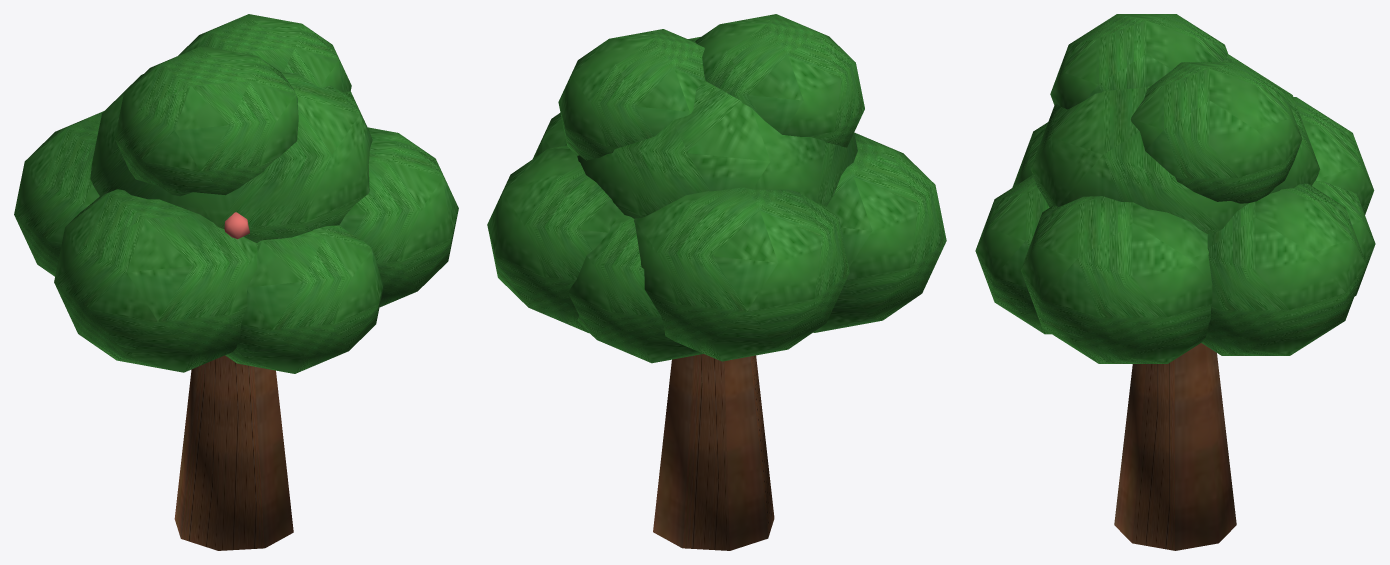
Rendered from kit_tree_oak.glb.
3 views of the same model, side by side, from view 1: azimuth 30°, elevation 25°; view 2: azimuth 150°, elevation 25°; view 3: azimuth 270°, elevation 25° (orthographic). The views are drawn at different scales.
Visible parts, largest first — view 1: TO_Puff_1, TO_Puff_7, TO_TrunkBase, TO_Puff_0, TO_Puff_5, TO_Puff_2, TO_Puff_3, TO_Puff_8; view 2: TO_Puff_3, TO_TrunkBase, TO_Puff_0, TO_Puff_1, TO_Puff_7, TO_Puff_4, TO_Puff_8, TO_Puff_6, TO_Puff_2; view 3: TO_Puff_2, TO_Puff_4, TO_TrunkBase, TO_Puff_8, TO_Puff_0, TO_Puff_7, TO_Puff_5, TO_Puff_3, TO_Puff_6, TO_Puff_1.
Part boxes in pixels (x1,y1,x2,y2): TO_Puff_1: (54,189,257,372); TO_Puff_7: (114,46,298,196); TO_TrunkBase: (174,355,293,550); TO_Puff_0: (90,70,372,242); TO_Puff_5: (225,225,383,373); TO_Puff_2: (339,127,458,307); TO_Puff_3: (14,111,103,276); TO_Puff_8: (178,14,351,92); TO_Puff_3: (634,187,849,361); TO_TrunkBase: (653,354,774,550); TO_Puff_0: (565,37,857,218); TO_Puff_1: (813,132,946,332); TO_Puff_7: (695,14,864,147); TO_Puff_4: (487,145,623,333); TO_Puff_8: (558,29,704,160); TO_Puff_6: (568,215,703,363); TO_Puff_2: (533,112,566,158); TO_Puff_2: (1021,196,1212,363); TO_Puff_4: (1201,183,1366,355); TO_TrunkBase: (1114,343,1236,550); TO_Puff_8: (1131,62,1302,203); TO_Puff_0: (1030,54,1320,233); TO_Puff_7: (1050,14,1227,109); TO_Puff_5: (975,175,1051,334); TO_Puff_3: (1293,97,1374,214); TO_Puff_6: (1312,180,1375,296); TO_Puff_1: (1012,122,1047,187).
Bounding box in the file's own units: 2.23 × 2.8 × 2.09.
Materials: 3 (2 with a texture image).
